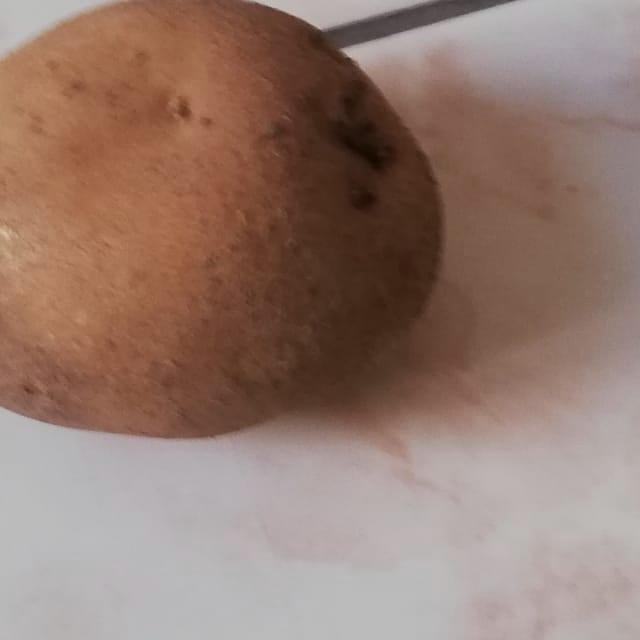potato: (0, 0, 458, 449)
